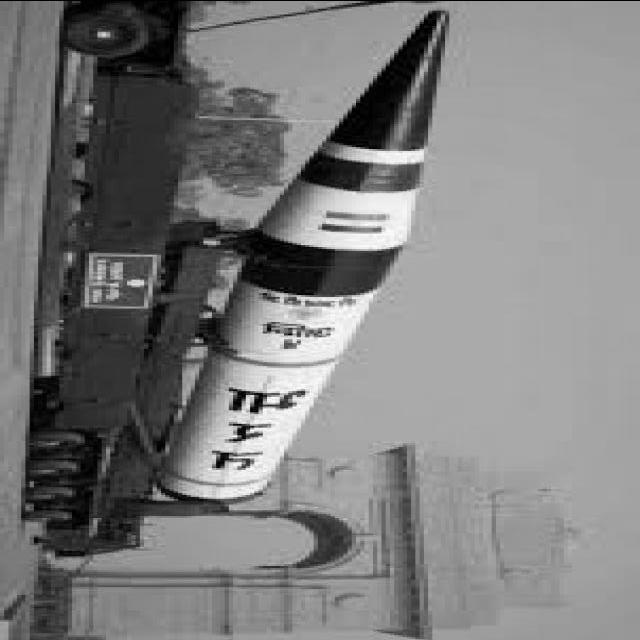Missile: (138, 0, 460, 518)
